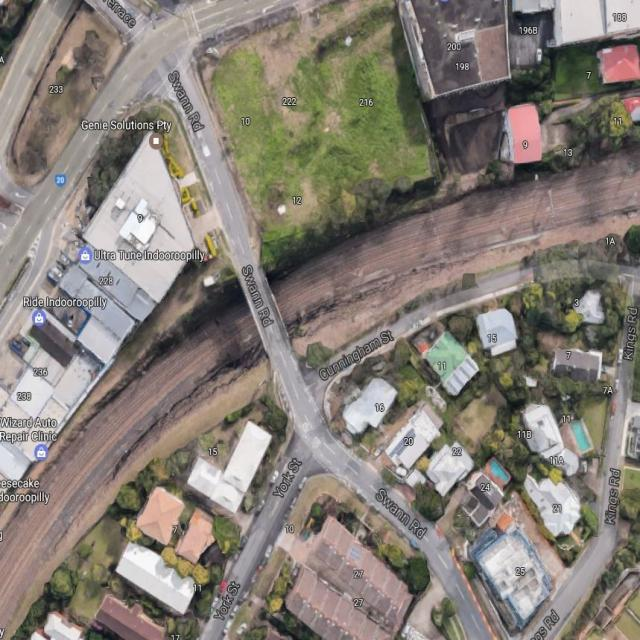traffic_incident: (200, 43, 221, 61)
